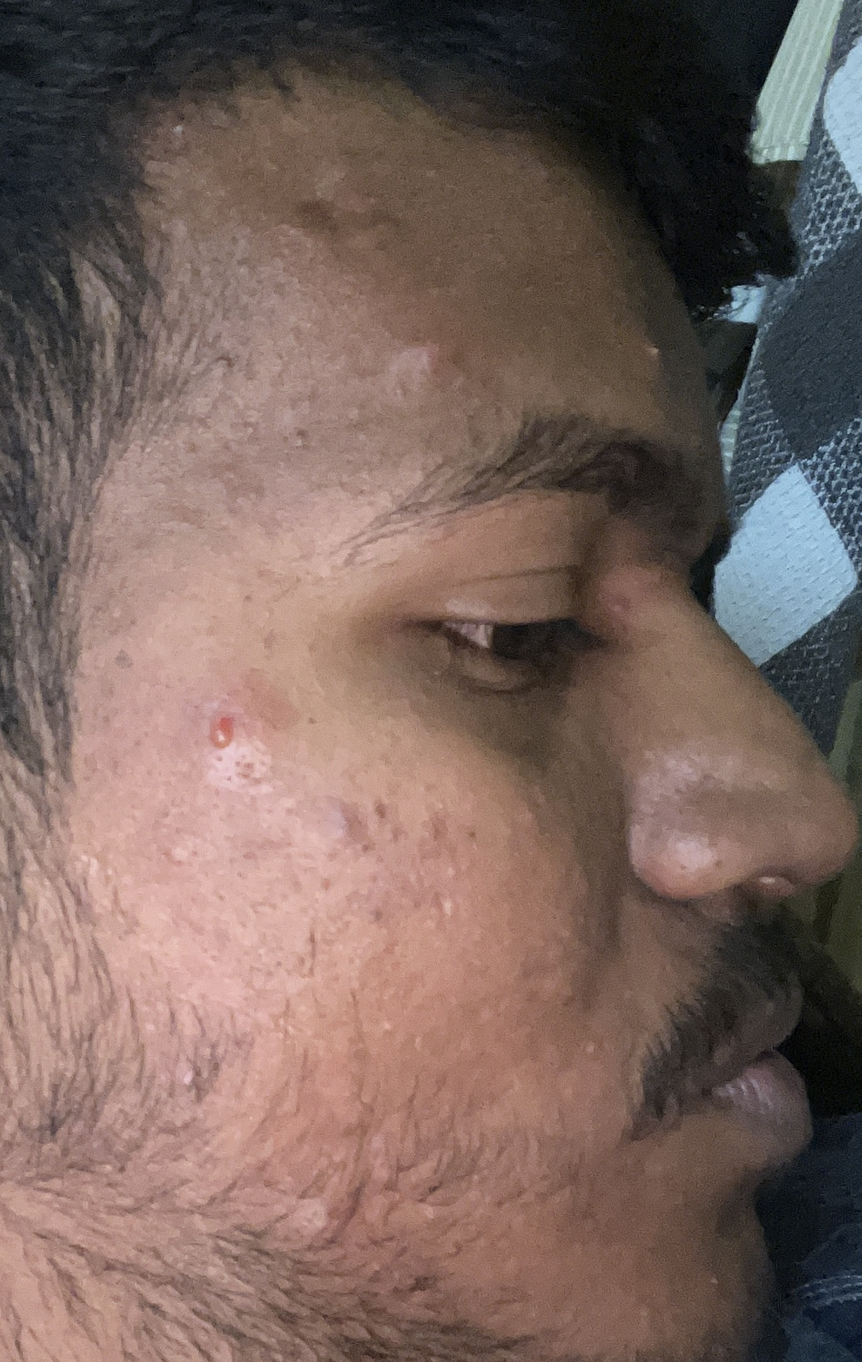papule: (288, 806, 380, 869), (376, 325, 459, 394)
pustule: (194, 711, 270, 754), (636, 325, 679, 379)
